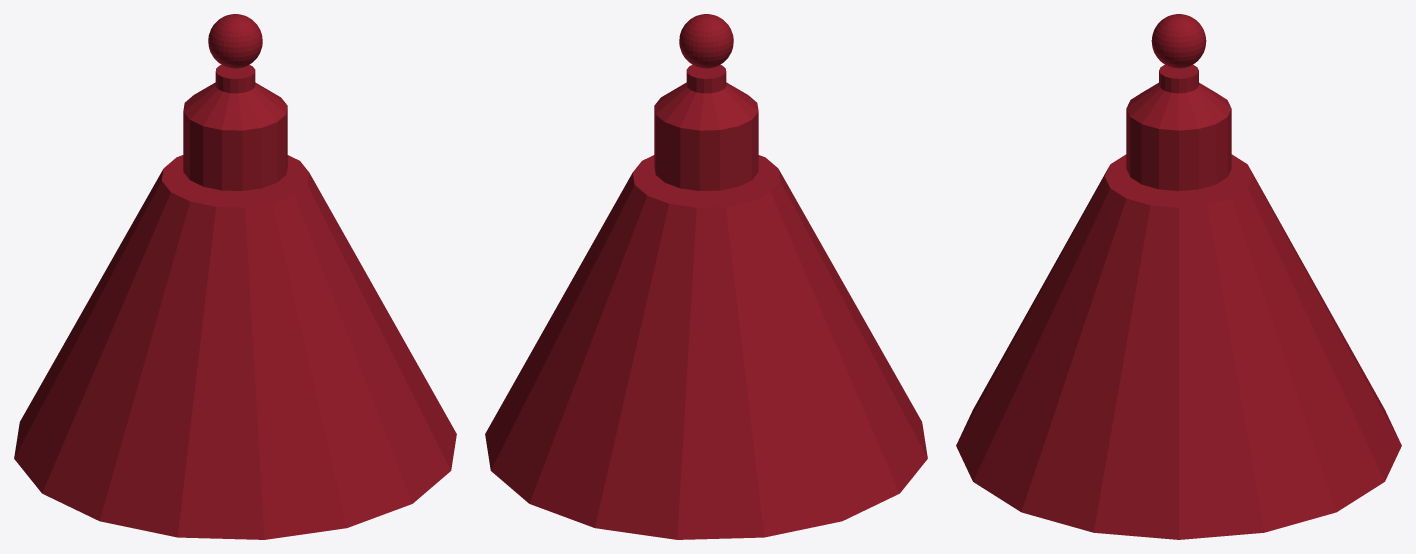
File: Bova.fbx
The picture shows the model from 3 angles, left to right: view 1: azimuth 30°, elevation 25°; view 2: azimuth 150°, elevation 25°; view 3: azimuth 270°, elevation 25°; orthographic projection.
Parts seen in each view (by area): view 1: Dress, Body, Head; view 2: Dress, Body, Head; view 3: Dress, Body, Head.
Boxes of the visible parts, bbox=[...] form: Dress: bbox=[14, 155, 456, 539]; Body: bbox=[183, 64, 287, 190]; Head: bbox=[208, 14, 262, 68]; Dress: bbox=[485, 155, 927, 539]; Body: bbox=[654, 64, 758, 190]; Head: bbox=[679, 14, 733, 68]; Dress: bbox=[956, 154, 1401, 539]; Body: bbox=[1126, 64, 1231, 190]; Head: bbox=[1151, 14, 1206, 68].
Size of the model in its own units: 600 by 637 by 600.
